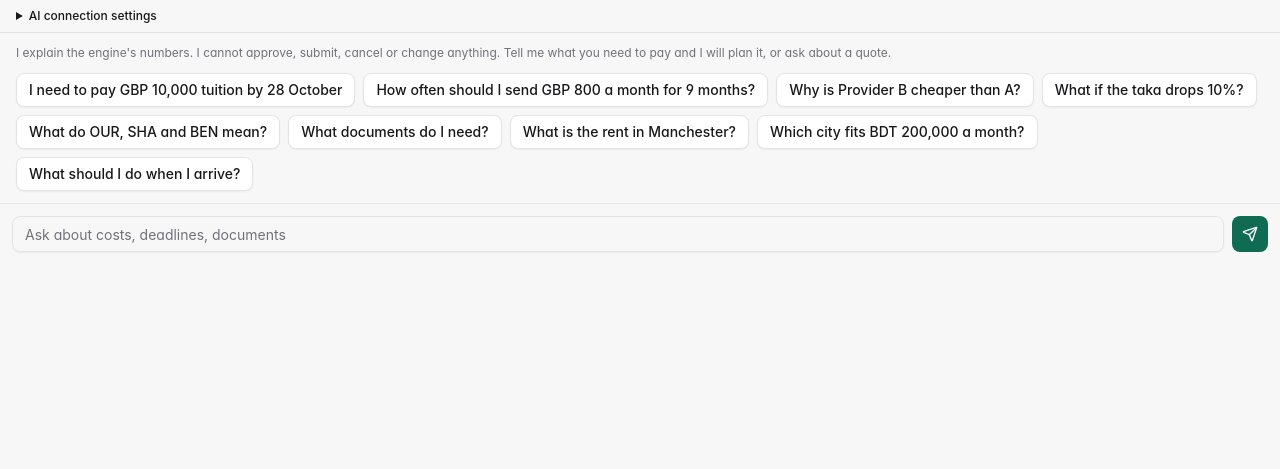
assistant chat › reads the values back and sends yes with what it held when the person confirms
Type "pay GBP 10,000 by 28 October" into the field named "Your question". click: (618, 234)
box: [12,216,1224,252]
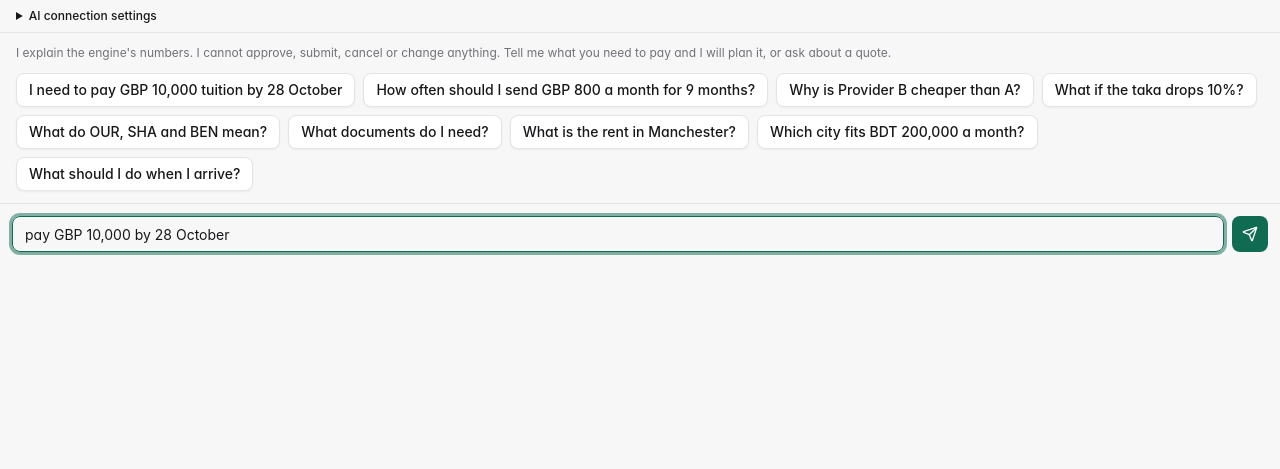
Click the button named "Send". click: (1250, 234)
box: [1232,216,1268,252]
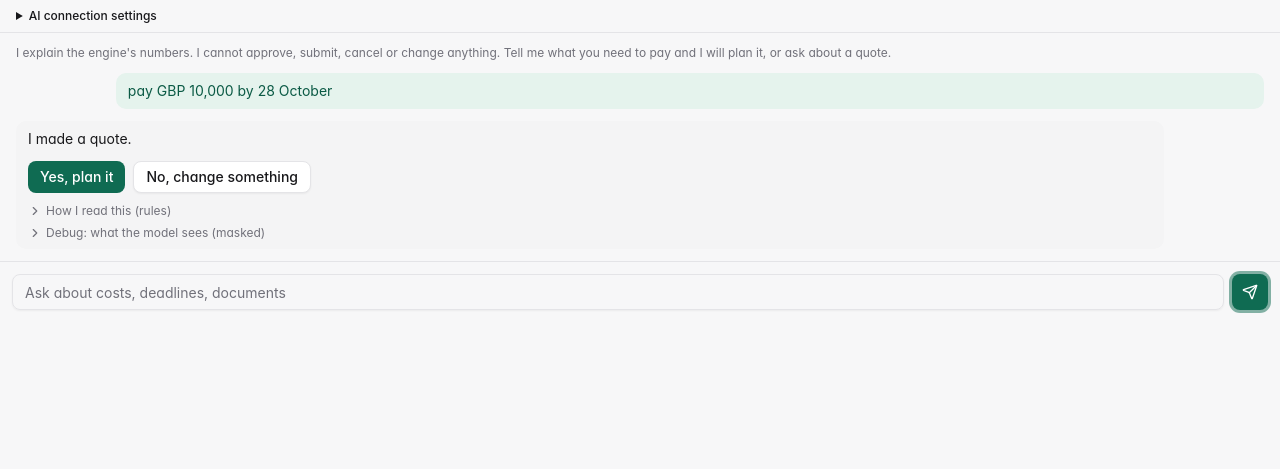
Expected: the button "No, change something" is shown, [133,161,311,193]
Click the button "Yes, plan it". click: (77, 177)
box: [28,161,125,193]
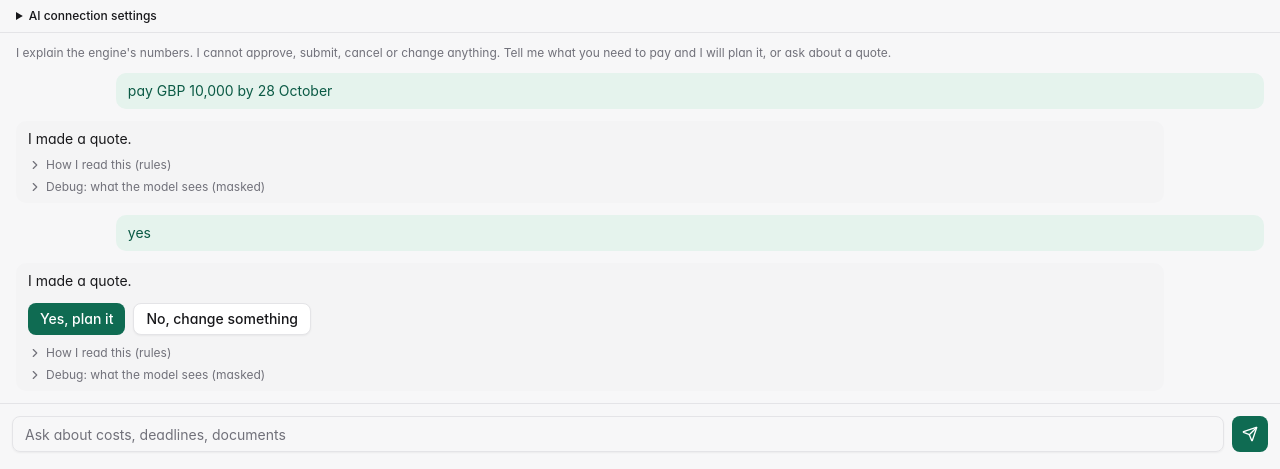
Expected: the text "yes" is shown, [128,224,151,241]
